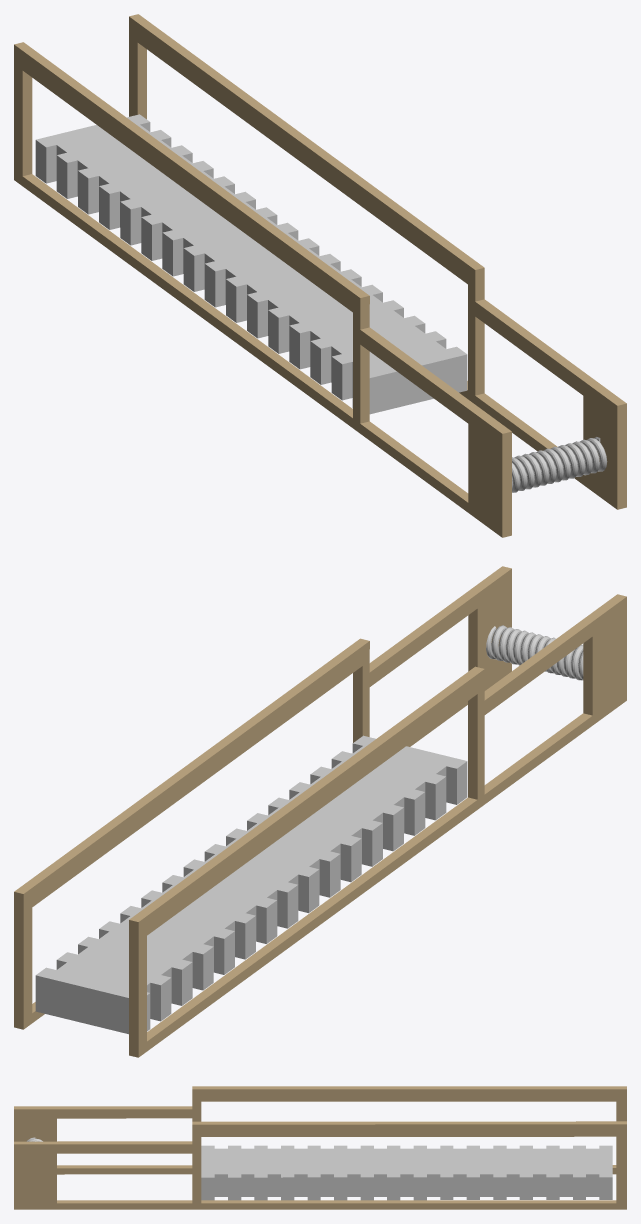
The model's file is B_Scrap_BWE_bar.fbx.
3 renders of one model, top to bottom at view 1: azimuth 30°, elevation 25°; view 2: azimuth 150°, elevation 25°; view 3: azimuth 270°, elevation 25°, orthographic. The views are drawn at different scales.
Parts seen in each view (by area): view 1: polySurface19; view 2: polySurface19; view 3: polySurface19.
Boxes of the visible parts, x1,y1,x2,y2 form: polySurface19: [14, 14, 626, 537]; polySurface19: [14, 566, 626, 1057]; polySurface19: [14, 1086, 626, 1209].
Bounding box in the file's own units: 0.08 × 0.0834 × 0.5432.
Materials: 3 (3 with a texture image).
